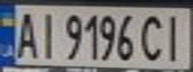1: (81, 10, 100, 61)
6: (115, 10, 139, 62)
9: (60, 10, 84, 61), (97, 11, 118, 61)
A: (12, 8, 39, 60)
C: (136, 10, 169, 63)
I: (160, 10, 190, 63), (33, 8, 60, 60)
